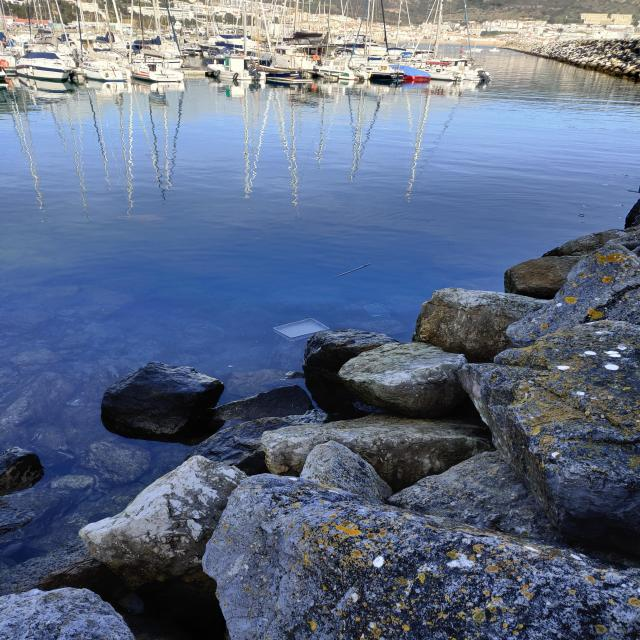litter: (271, 316, 332, 344), (332, 262, 373, 279)
